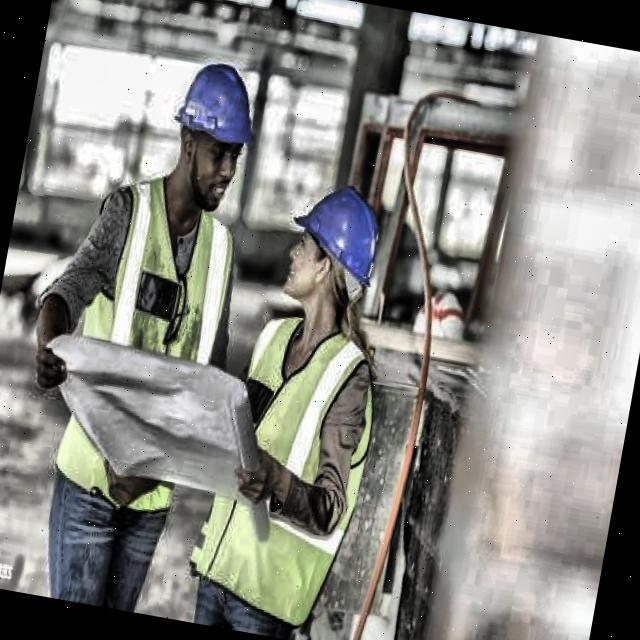helmet: (150, 37, 274, 228), (271, 159, 400, 336)
